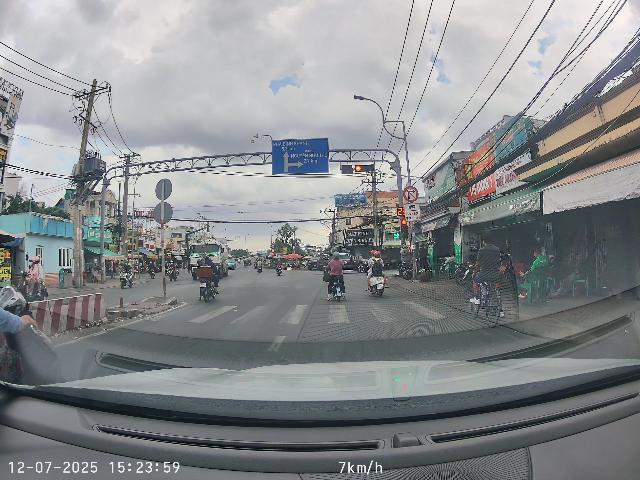123b-cam-re-phai: (403, 186, 419, 202)
